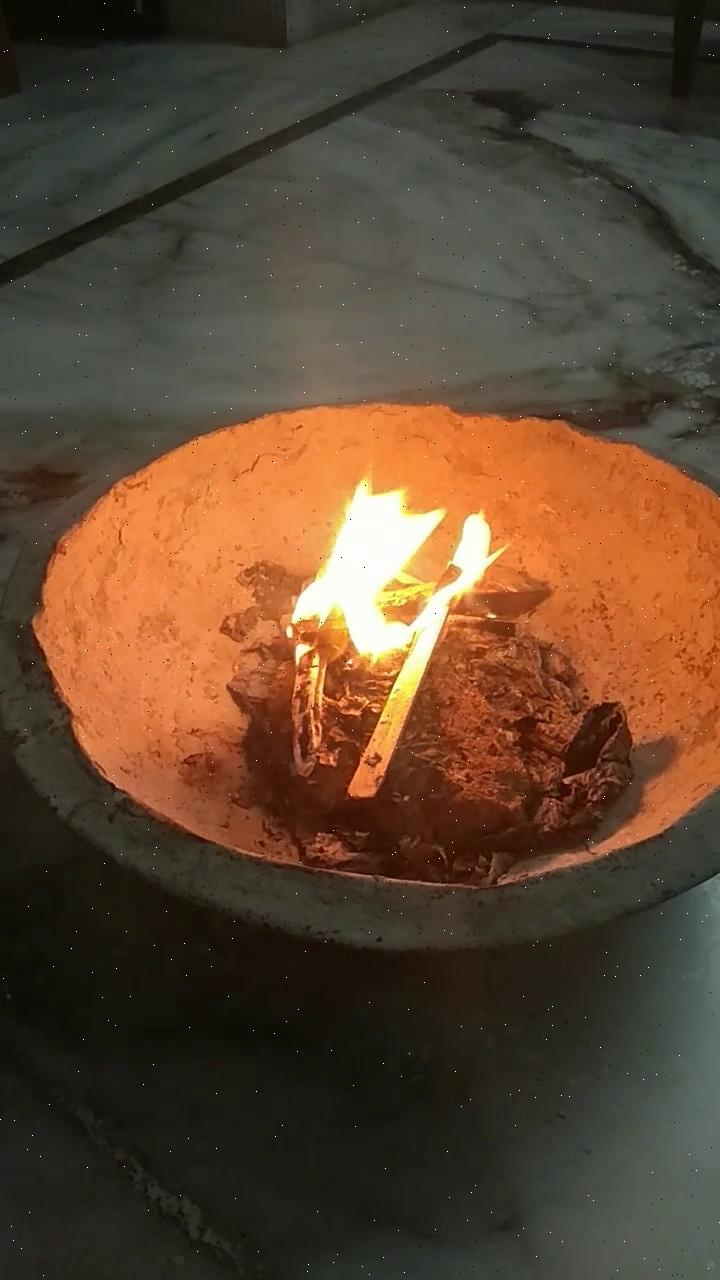fire: (279, 398, 505, 720)
